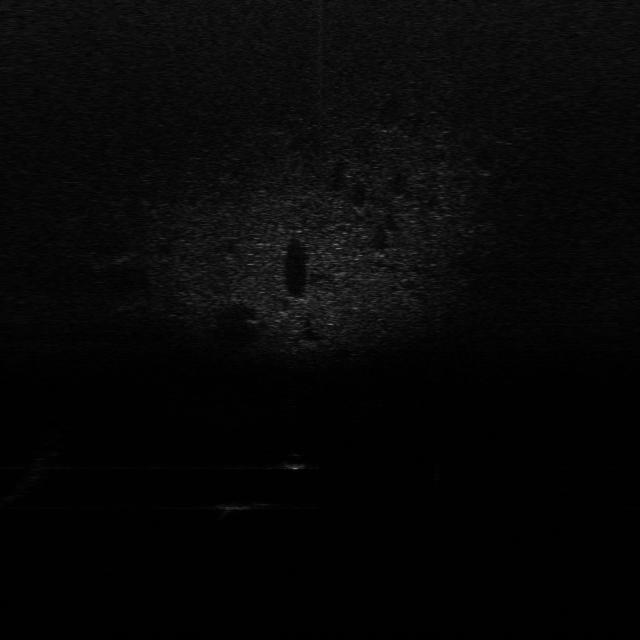ball: (279, 451, 312, 472)
square cage: (209, 497, 257, 516)
